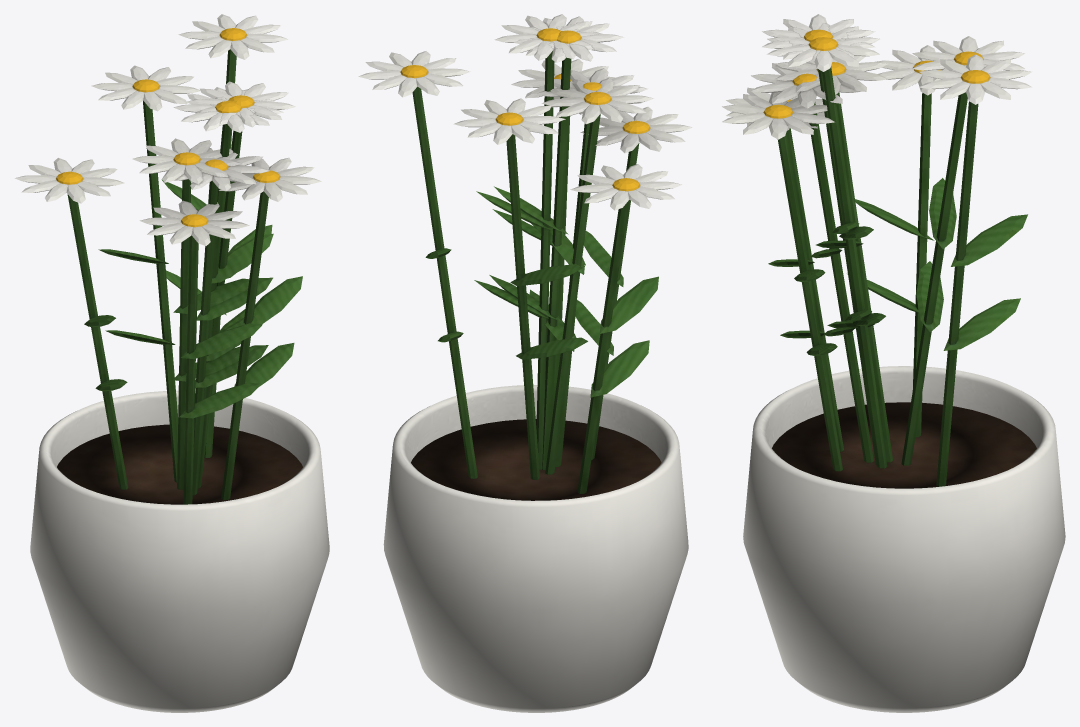
The model's file is white-daisies.glb.
The picture shows the model from 3 angles, left to right: view 1: azimuth 30°, elevation 25°; view 2: azimuth 150°, elevation 25°; view 3: azimuth 270°, elevation 25°; orthographic projection. The views are drawn at different scales.
Parts seen in each view (by area): view 1: ceramic_primary, flower_stem, petals, soil, flower_center; view 2: ceramic_primary, flower_stem, petals, soil, flower_center; view 3: ceramic_primary, flower_stem, petals, soil, flower_center.
Part boxes in pixels (bbox=[...]): ceramic_primary: bbox=[30, 390, 329, 712]; flower_stem: bbox=[67, 49, 302, 504]; petals: bbox=[15, 14, 321, 245]; soil: bbox=[57, 424, 302, 504]; flower_center: bbox=[56, 28, 280, 227]; ceramic_primary: bbox=[383, 385, 688, 712]; flower_stem: bbox=[412, 51, 658, 493]; petals: bbox=[358, 14, 692, 210]; soil: bbox=[411, 419, 661, 500]; flower_center: bbox=[400, 28, 650, 191]; ceramic_primary: bbox=[743, 366, 1065, 712]; flower_stem: bbox=[768, 66, 1027, 486]; petals: bbox=[722, 14, 1032, 139]; soil: bbox=[772, 402, 1036, 488]; flower_center: bbox=[763, 29, 990, 118].
Size of the model in its own units: 0.2177 by 0.4369 by 0.2135.
Materials: 5 (4 with a texture image).
